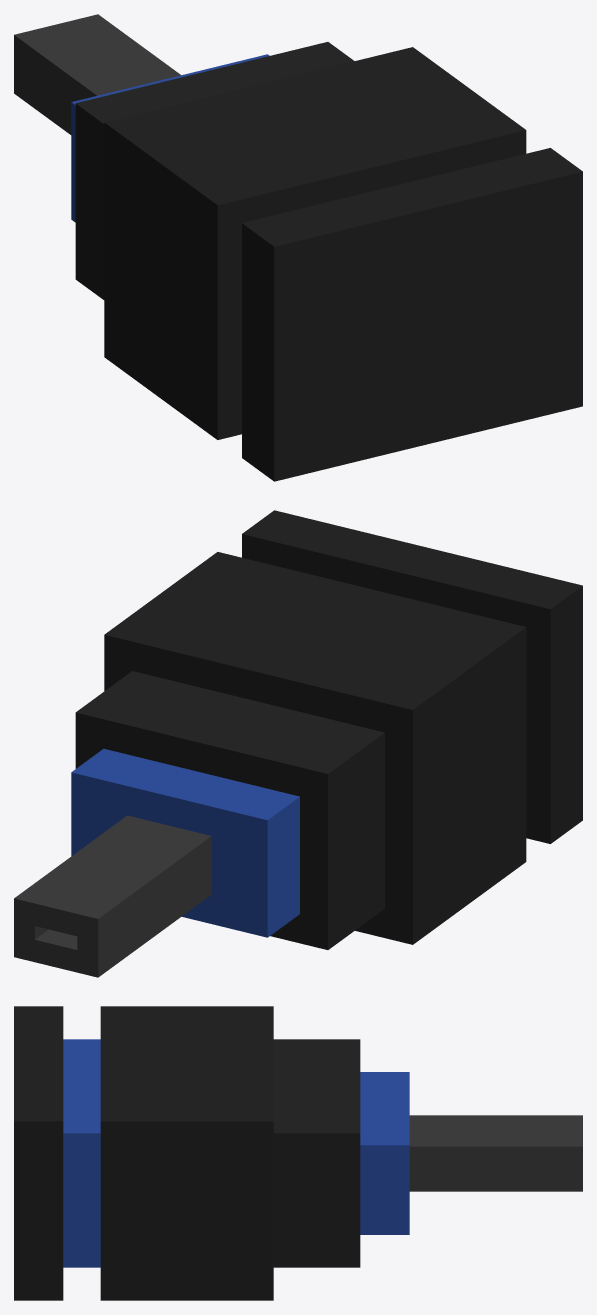
File: LaserTowerTurret.dae
3 renders of one model, top to bottom at view 1: azimuth 30°, elevation 25°; view 2: azimuth 150°, elevation 25°; view 3: azimuth 270°, elevation 25°, orthographic. The views are drawn at different scales.
Parts seen in each view (by area): view 1: Box_8, Box_7, Box_3, Box_6, Box_5; view 2: Box_7, Box_3, Box_8, Box_5, Box_6; view 3: Box_7, Box_3, Box_8, Box_6, Box_13, Box_5.
Boxes of the visible parts, x1,y1,x2,y2 form: Box_8: (242, 148, 582, 481); Box_7: (104, 47, 526, 439); Box_3: (75, 42, 354, 299); Box_6: (14, 14, 180, 134); Box_5: (71, 54, 269, 222); Box_7: (104, 552, 526, 944); Box_3: (75, 671, 384, 949); Box_8: (242, 510, 582, 843); Box_5: (71, 748, 299, 937); Box_6: (14, 815, 211, 977); Box_7: (100, 1006, 273, 1300); Box_3: (273, 1039, 360, 1267); Box_8: (14, 1006, 63, 1300); Box_6: (409, 1115, 582, 1191); Box_13: (63, 1039, 100, 1267); Box_5: (360, 1072, 409, 1234).
Size of the model in its own units: 0.55 by 0.4 by 1.15.
